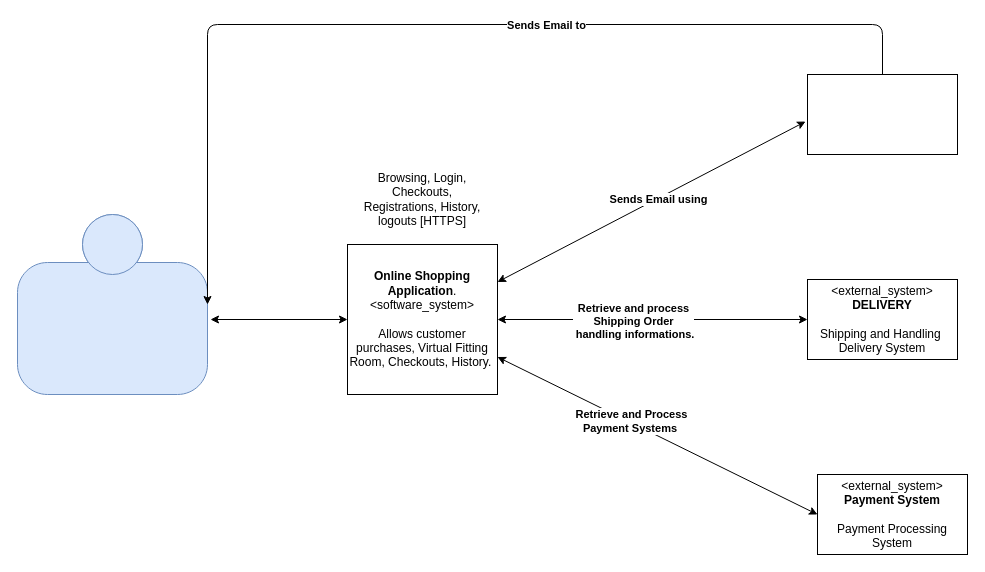
Image size: 985x572. Some labels were removed from this diagram. The centre of each missing label's shape, as x and y in pixels:
"<external_system> EMAIL Email System" belongs at pixel 882 114.
"Customer <person> A customer of the Online Shipping Application" belongs at pixel 112 304.
